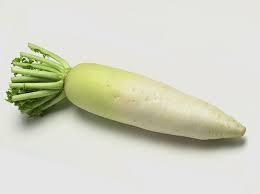radish: (21, 17, 102, 44)
